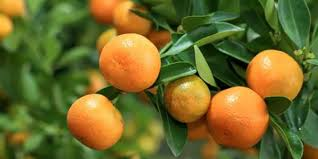orange: (212, 83, 271, 152), (99, 33, 163, 94), (65, 89, 125, 150), (245, 45, 304, 105), (164, 71, 211, 128)
